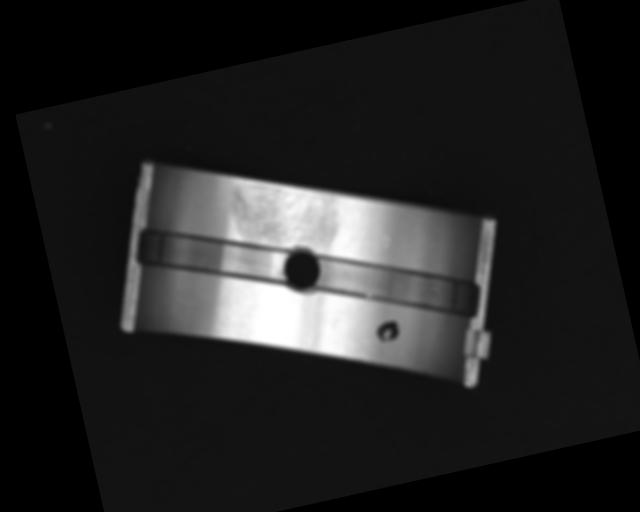blot: (372, 318, 403, 346)
bruise: (380, 234, 392, 250)
gap: (310, 225, 479, 344), (132, 202, 292, 308)
hole: (277, 243, 326, 297)
scratch: (224, 164, 342, 265)
